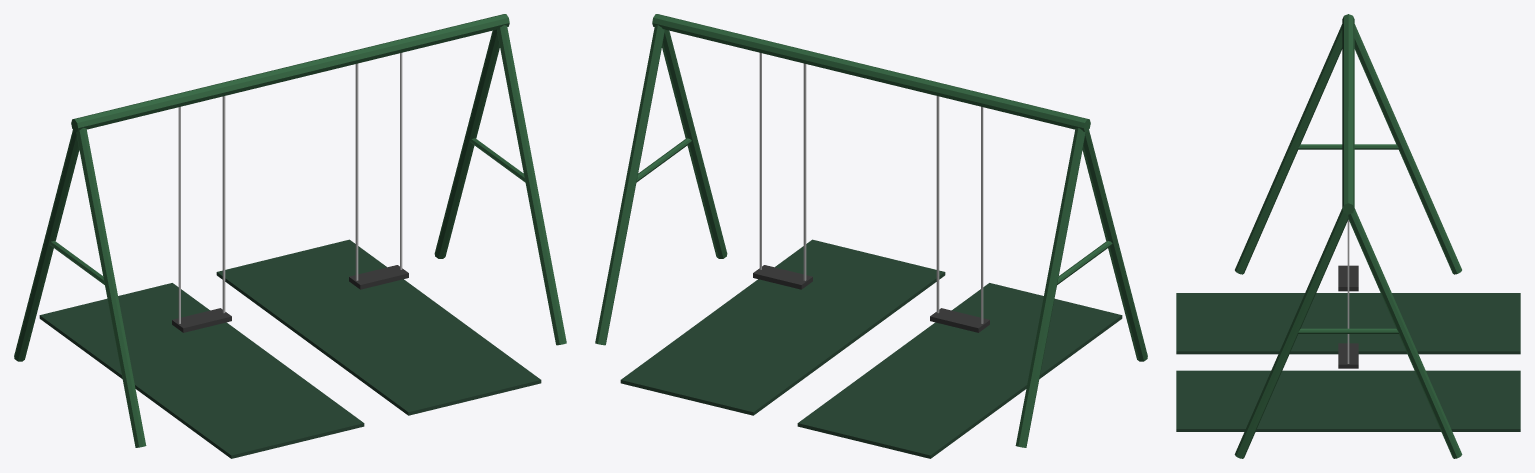
Rendered from sport.play.swings_flat.glb.
3 views of the same model, side by side, from view 1: azimuth 30°, elevation 25°; view 2: azimuth 150°, elevation 25°; view 3: azimuth 270°, elevation 25° (orthographic). The views are drawn at different scales.
Parts seen in each view (by area): view 1: main__paint_243, main__paint_364, main__steel_bbb, main__rubber; view 2: main__paint_243, main__paint_364, main__steel_bbb, main__rubber; view 3: main__paint_243, main__paint_364, main__rubber, main__steel_bbb.
Boxes of the visible parts, x1,y1,x2,y2 form: main__paint_243: [39, 239, 541, 458]; main__paint_364: [14, 14, 566, 447]; main__steel_bbb: [178, 53, 402, 323]; main__rubber: [172, 265, 408, 332]; main__paint_243: [620, 239, 1122, 458]; main__paint_364: [595, 14, 1147, 447]; main__steel_bbb: [759, 53, 983, 323]; main__rubber: [753, 265, 989, 332]; main__paint_243: [1176, 293, 1520, 431]; main__paint_364: [1234, 14, 1462, 458]; main__rubber: [1338, 265, 1358, 368]; main__steel_bbb: [1347, 219, 1349, 363].
Size of the model in its own units: 3.9 by 2.47 by 3.
